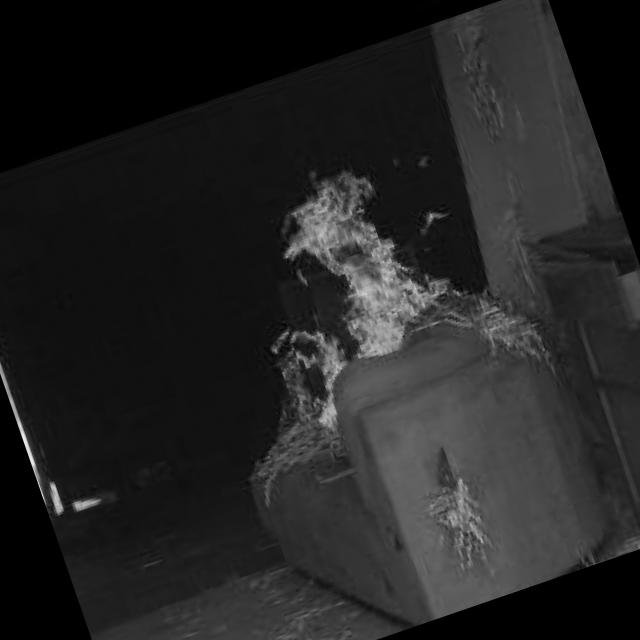fire: (264, 131, 476, 375), (238, 302, 368, 449)
